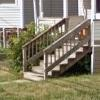stairs: (23, 41, 92, 80)
